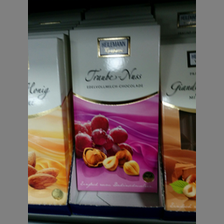chocolate: (69, 25, 162, 192), (28, 33, 68, 206), (160, 44, 195, 211)
